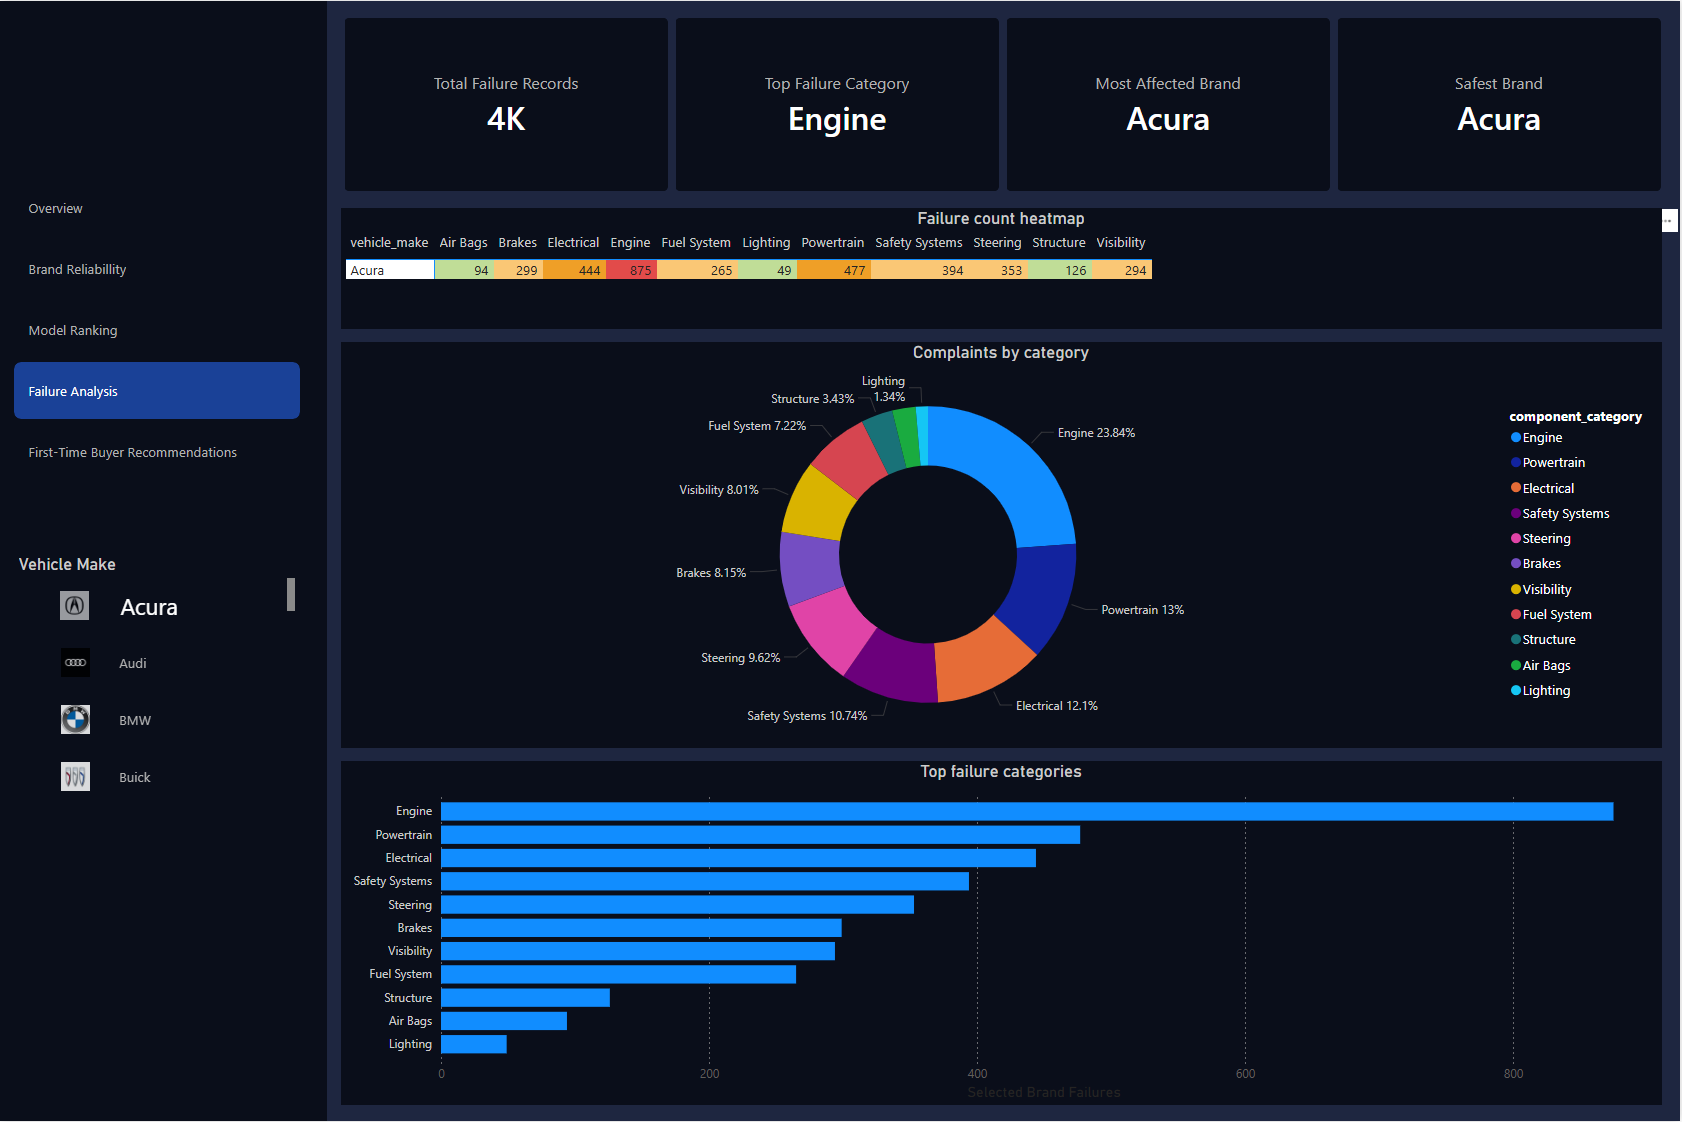

This screenshot's page, from the dashboard's own definition file:
{"tool":"powerbi","page":{"name":"Failure Analysis","canvas":[1580,1280],"ordinal":3},"visuals":[{"type":"shape","box":[0,0,326.9,1279.7],"z":0},{"type":"cardVisual","fields":{"Data":["gold_dim_failure_category.Total Failure Records","gold_dim_failure_category.Top Failure Category","gold_dim_failure_category.Most Affected Brand","gold_dim_failure_category.Safest Brand"]},"box":[327.5,0,1253,262],"z":1000},{"type":"pageNavigator","box":[13.8,177.5,286.1,301.6],"z":2000},{"type":"advancedSlicerVisual","fields":{"Values":["silver_logos.vehicle_make"]},"box":[13.8,553.3,286.1,255.1],"z":3000},{"type":"pivotTable","title":"Failure heatmap","fields":{"Rows":["gold_dim_failure_category.vehicle_make"],"Columns":["gold_dim_failure_category.component_category"],"Values":["gold_dim_failure_category.Failure Count"]},"box":[358.5,262,1201.3,118.9],"z":4000},{"type":"donutChart","title":"Complaints by category","fields":{"Category":["gold_dim_failure_category.component_category"],"Y":["gold_dim_failure_category.Failure Count"]},"box":[356.8,401.6,1201.3,443],"z":5000},{"type":"barChart","title":"Top failure categories","fields":{"Category":["gold_dim_failure_category.component_category"],"Y":["gold_dim_failure_category.Selected Brand Failures"]},"box":[356.8,865.1,1202,396.7],"z":6000}]}

Visuals, with their boxes on the page's 1580x1280 design canvas (x1, y1, x2, y2). These are canvas units, not pixel positions in the 1682x1122 screenshot, which may show the page scaled, cropped or inside an application window:
shape: locate(0, 0, 327, 1280)
cardVisual - gold_dim_failure_category.Total Failure Records x gold_dim_failure_category.Top Failure Category: locate(328, 0, 1580, 262)
pageNavigator: locate(14, 178, 300, 479)
advancedSlicerVisual - silver_logos.vehicle_make: locate(14, 553, 300, 808)
"Failure heatmap" pivotTable: locate(358, 262, 1560, 381)
"Complaints by category" donutChart: locate(357, 402, 1558, 845)
"Top failure categories" barChart: locate(357, 865, 1559, 1262)
